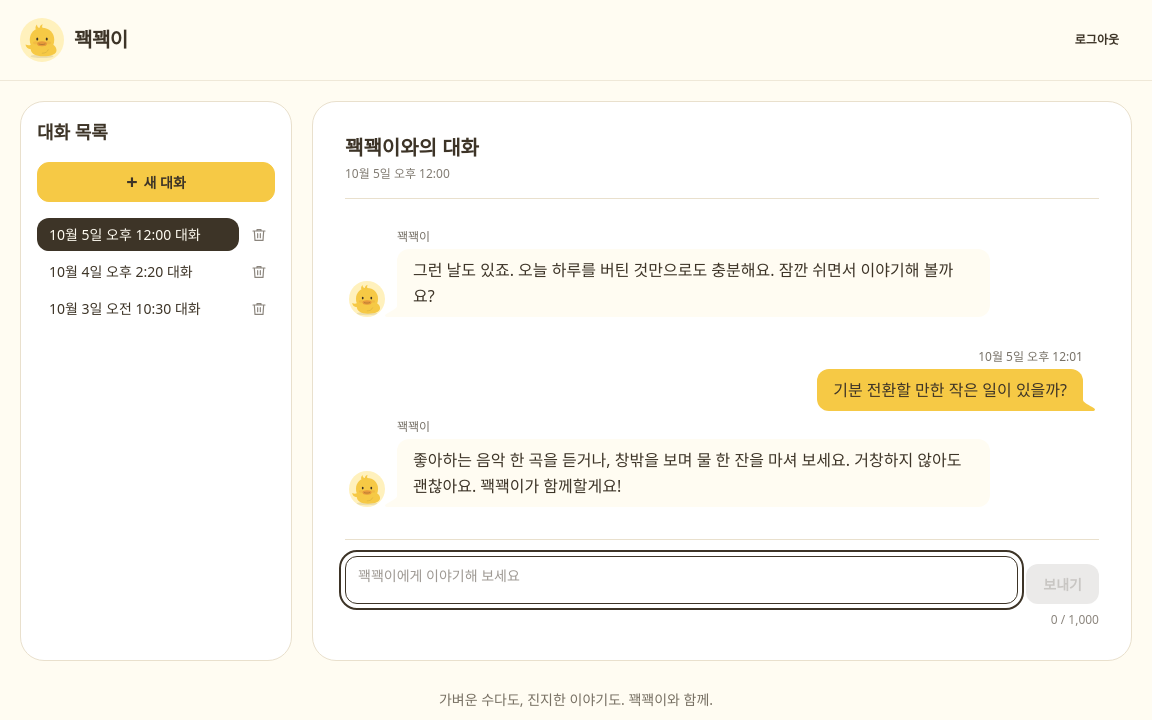
Test case: 대화 삭제 › 다른 대화를 삭제해도 현재 선택·기록·입력을 유지한다
(page scrolled)
Type "계속 쓸 질문" into the text box named "메시지". click: (682, 580)
box: [345,556,1018,604]
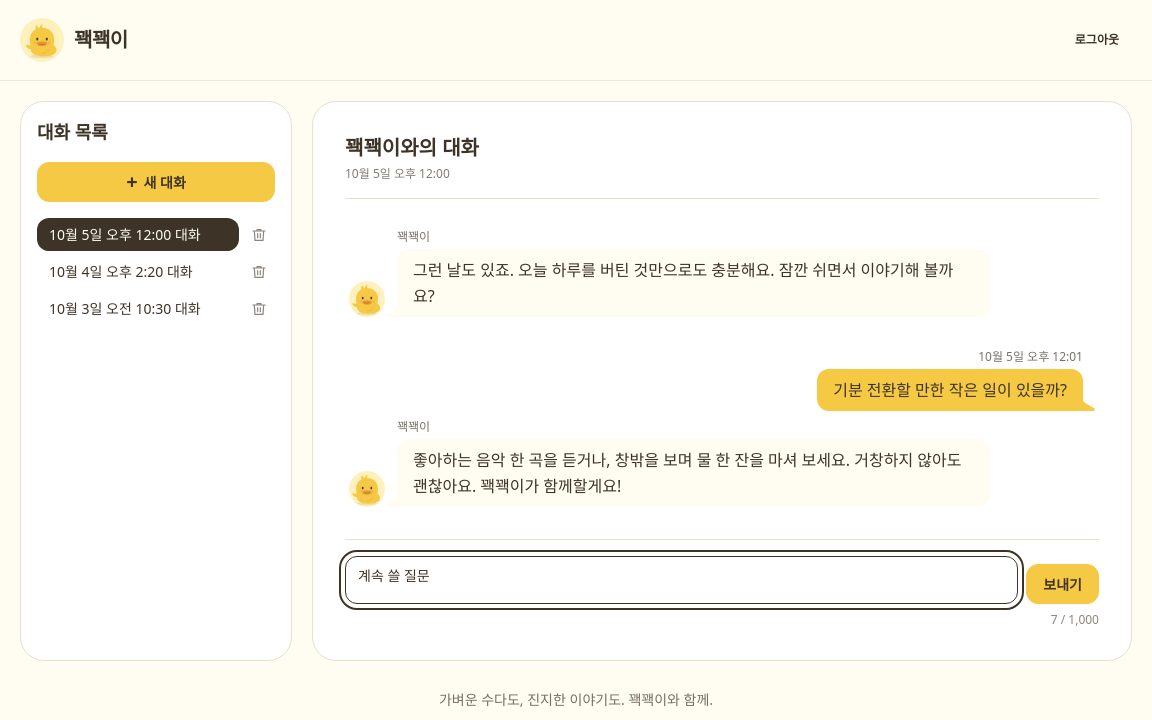
Click the button named "10월 3일 오전 10:30 대화 삭제". click: (259, 308)
box: [243,292,275,324]
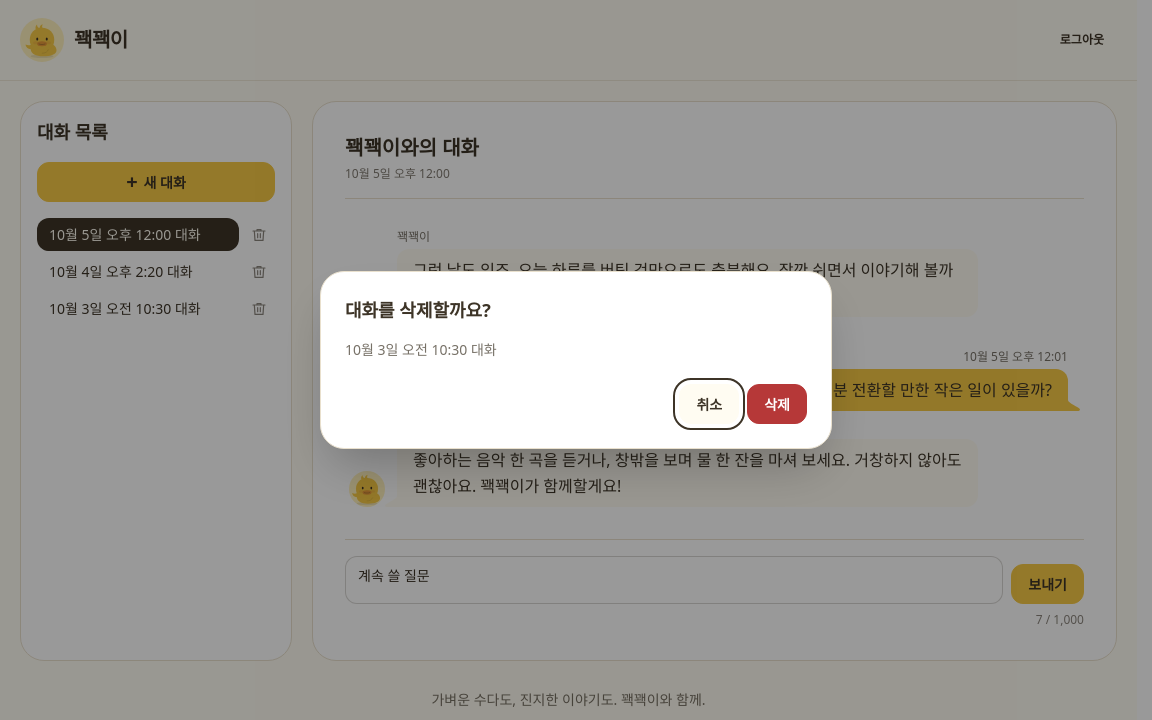
Click the button "삭제". click: (777, 404)
box: [747,384,807,424]
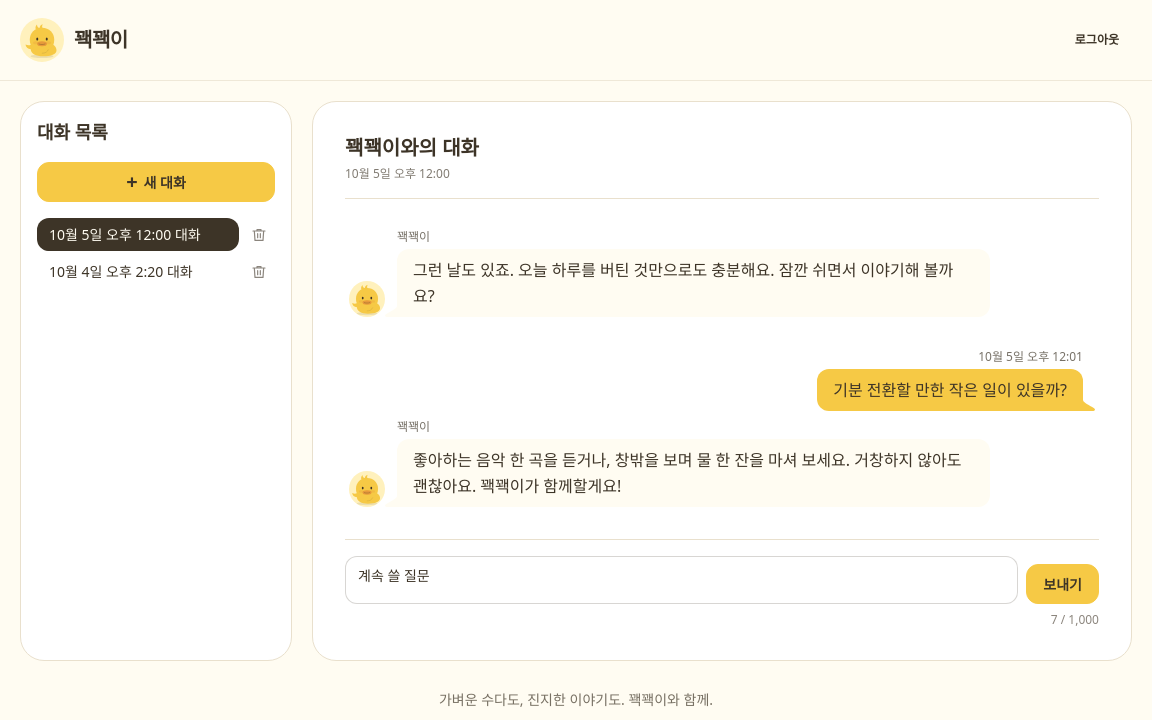
Expected: the dialog is gone
